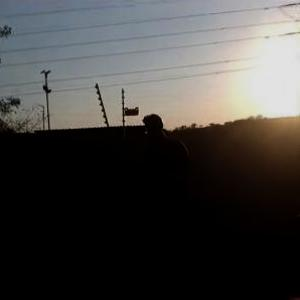follow: (141, 107, 194, 298)
